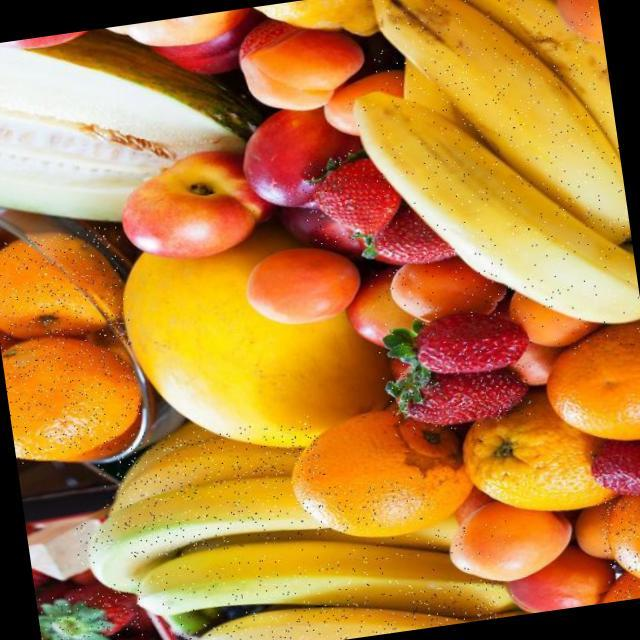Orange: (0, 325, 147, 463), (0, 223, 132, 346), (597, 488, 640, 602)
Plátano: (342, 59, 640, 381), (363, 0, 632, 276), (124, 518, 522, 640), (74, 473, 435, 569), (95, 413, 326, 513), (177, 577, 511, 640)
Strawberry: (377, 302, 540, 388), (387, 356, 533, 438), (299, 149, 404, 245), (359, 210, 458, 278), (35, 580, 141, 640), (583, 434, 640, 505)
